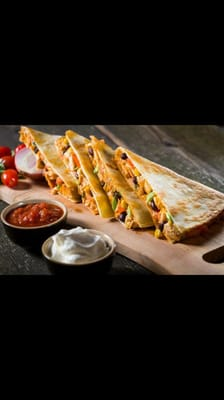sushi: (0, 198, 68, 251)
